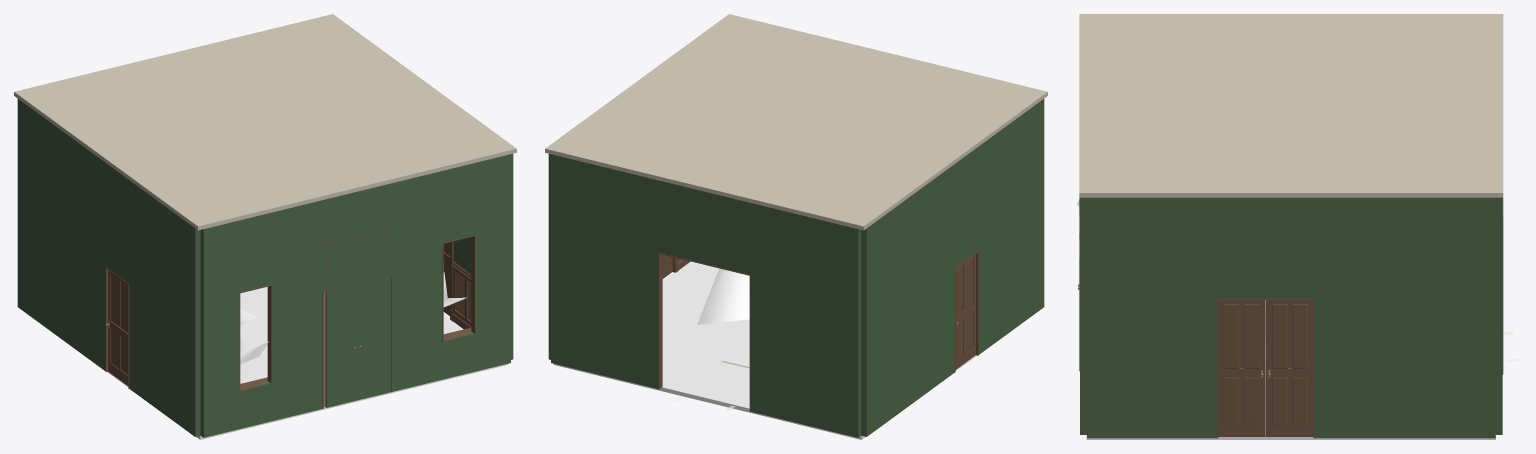
File: foyer.glb
3 views of the same model, side by side, from view 1: azimuth 30°, elevation 25°; view 2: azimuth 150°, elevation 25°; view 3: azimuth 270°, elevation 25° (orthographic). The views are drawn at different scales.
Parts seen in each view (by area): view 1: ROOM__foyer, LEAF__parlor__0; view 2: ROOM__foyer, LEAF__parlor__0; view 3: ROOM__foyer, LEAF__foyer_living__0, LEAF__foyer_living__1.
Boxes of the visible parts, x1=… form: ROOM__foyer: x1=14, y1=14, x2=516, y2=439; LEAF__parlor__0: x1=105, y1=270, x2=128, y2=385; ROOM__foyer: x1=545, y1=14, x2=1047, y2=439; LEAF__parlor__0: x1=955, y1=254, x2=975, y2=369; ROOM__foyer: x1=1076, y1=14, x2=1520, y2=439; LEAF__foyer_living__0: x1=1218, y1=300, x2=1265, y2=436; LEAF__foyer_living__1: x1=1266, y1=300, x2=1313, y2=436.
Bounding box in the file's own units: 8.36 × 6.38 × 8.72.
